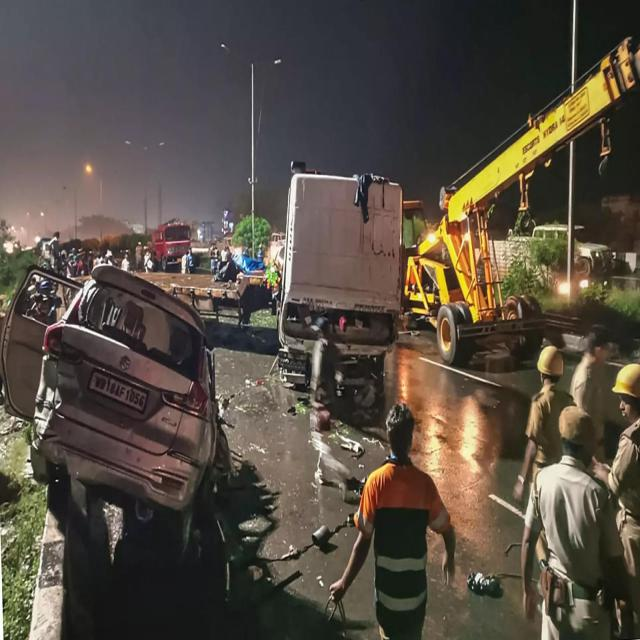accident: (0, 264, 218, 559), (278, 167, 402, 382)
truck: (402, 38, 640, 364)
